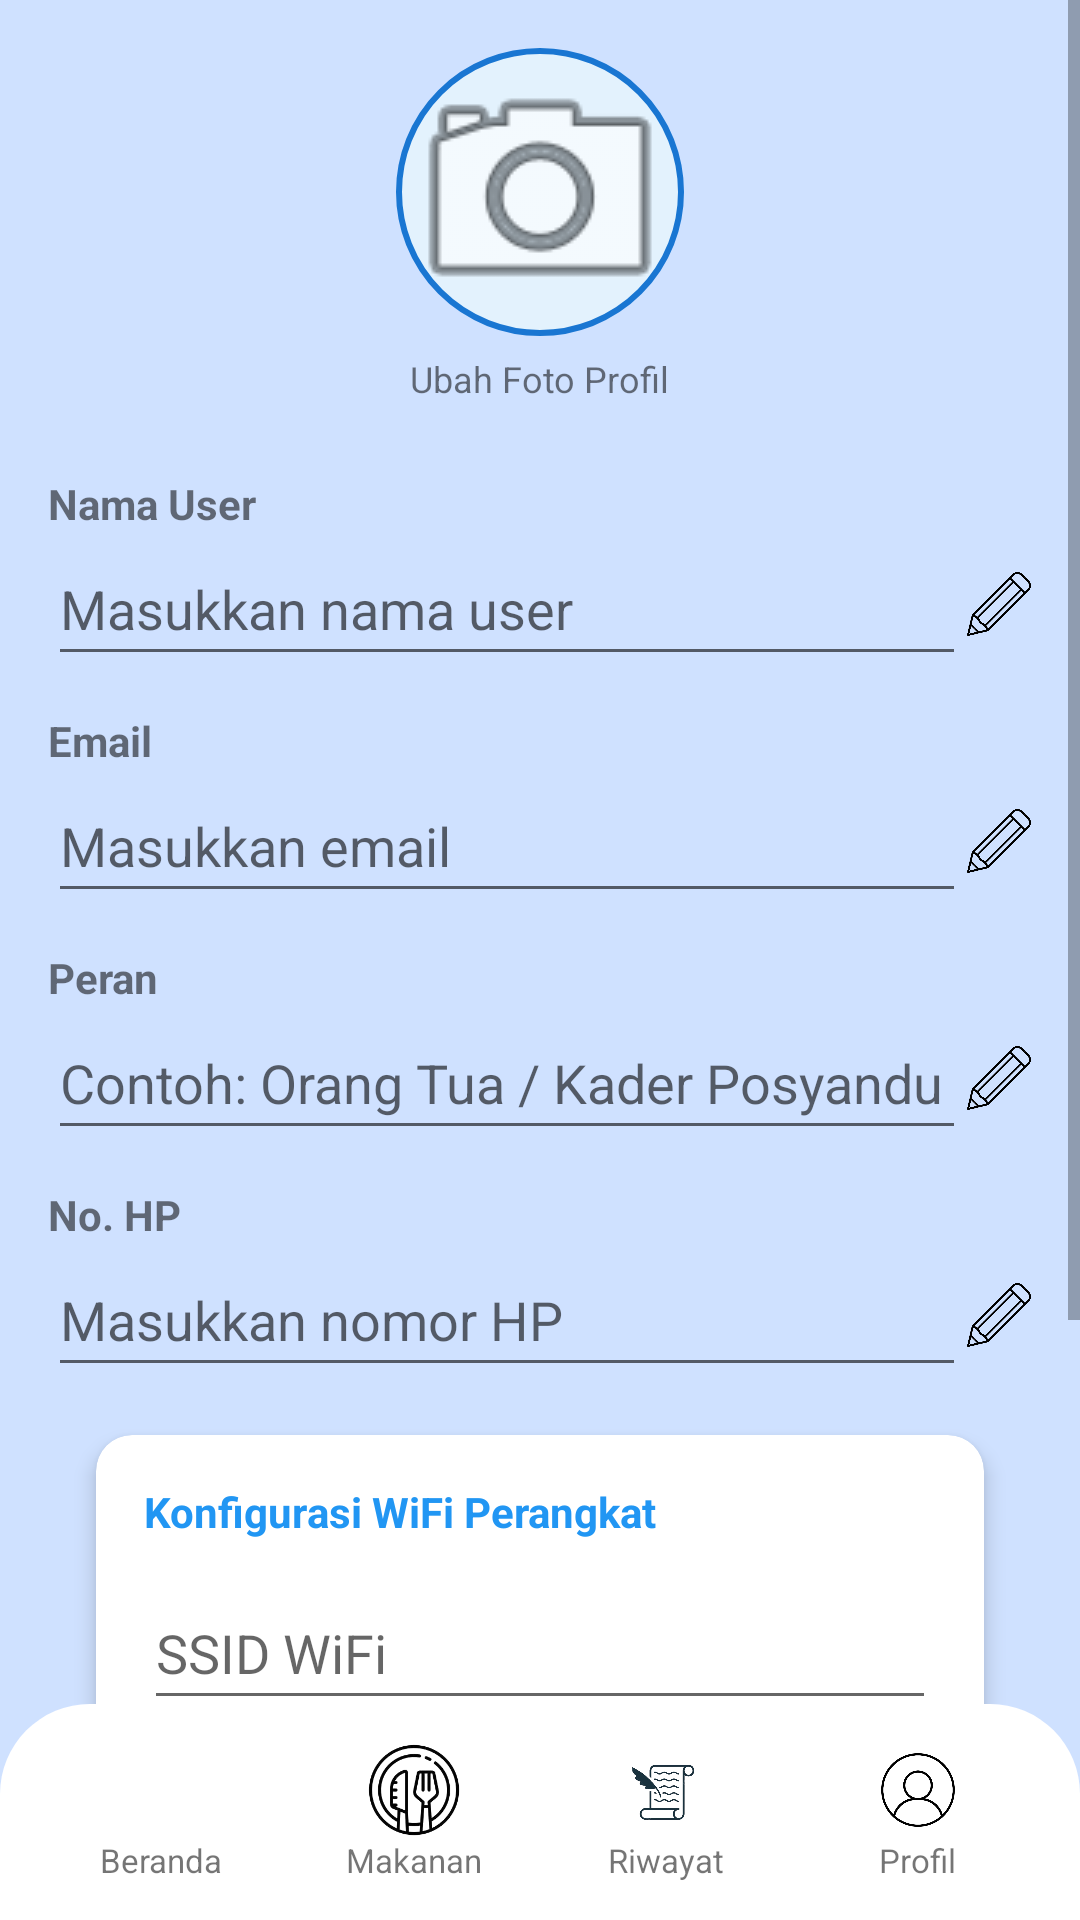

Screen size 1080 x 1920. Icon name, then its box in pixels as (x1, y1, x2, y2):
edit: (967, 572, 1031, 636), (967, 809, 1031, 873), (967, 1046, 1031, 1110), (967, 1283, 1031, 1347)
